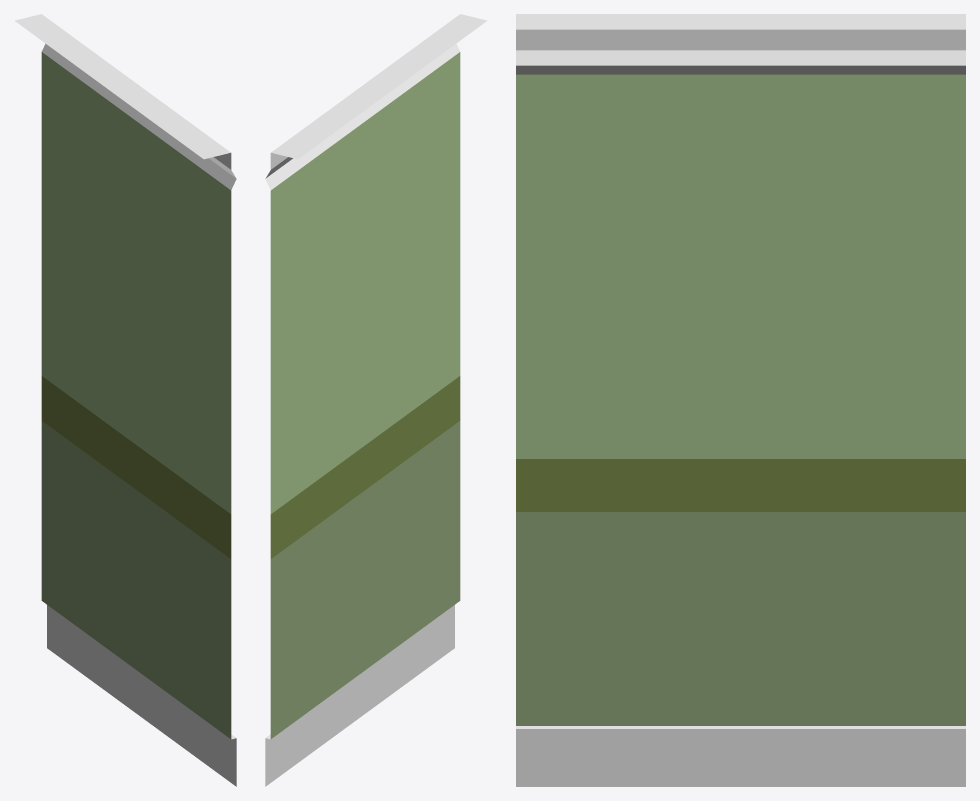
The model's file is g_t_RelaxationWall.fbx.
3 renders of one model, left to right at view 1: azimuth 30°, elevation 25°; view 2: azimuth 150°, elevation 25°; view 3: azimuth 270°, elevation 25°, orthographic. The views are drawn at different scales.
Parts seen in each view (by area): view 1: g_o_RelaxationWall; view 2: g_o_RelaxationWall; view 3: g_o_RelaxationWall.
Part boxes in pixels (box(x1,y1,x2,y2)): g_o_RelaxationWall: box(15, 14, 236, 786); g_o_RelaxationWall: box(265, 14, 486, 786); g_o_RelaxationWall: box(516, 14, 965, 786).
Size of the model in its own units: 9.99 by 185 by 100.
